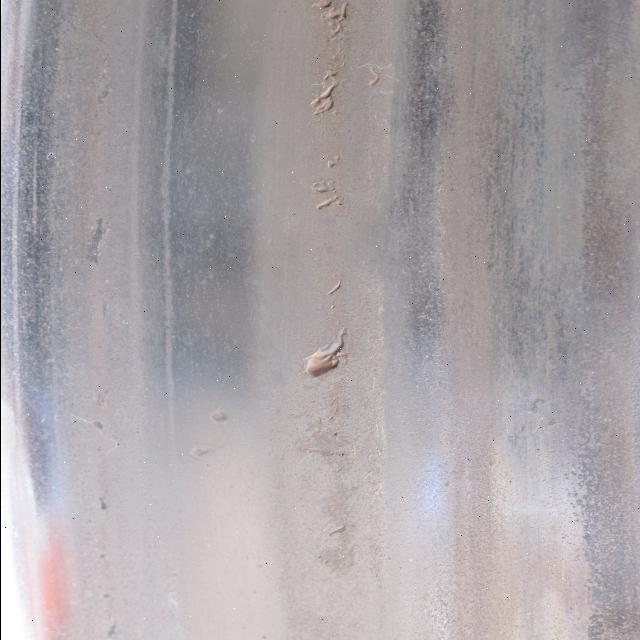boli: (290, 326, 354, 392)
